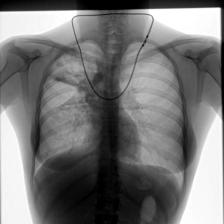tuberculosis: (27, 35, 192, 216)
